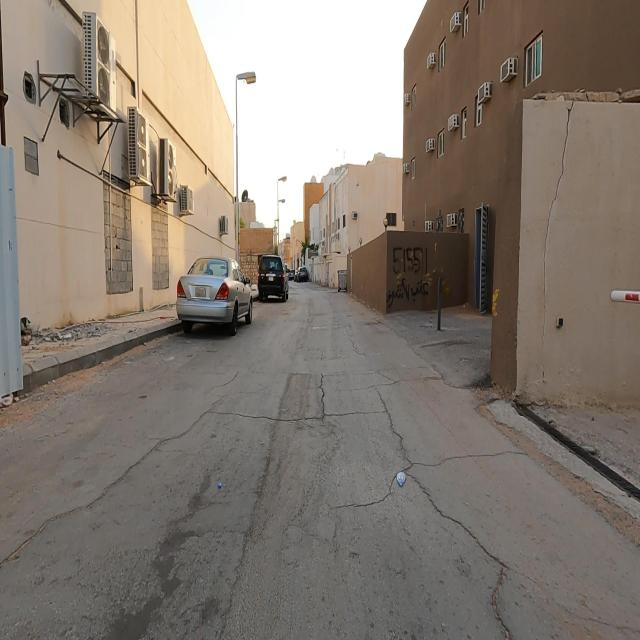Graffiti: (389, 244, 432, 306)
